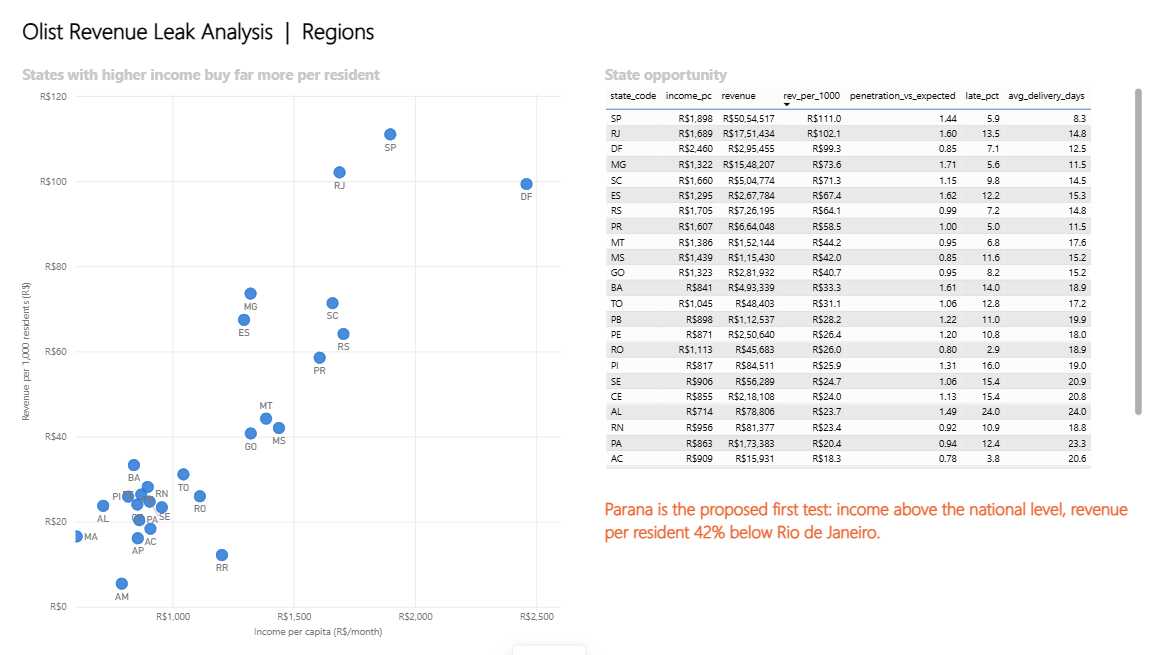

Layout of this report page (visuals, bound fields, positions):
{"tool":"powerbi","page":{"name":"Regions","canvas":[1280,720],"ordinal":3},"visuals":[{"type":"textbox","box":[20,12,900,44],"z":0},{"type":"scatterChart","title":"States with higher income buy far more per resident","fields":{"Category":["states.state_code"],"X":["Sum(states.income_pc)"],"Y":["Sum(states.rev_per_1000)"]},"box":[20,70,620,635],"z":10},{"type":"tableEx","title":"State opportunity","fields":{"Values":["states.state_code","states.income_pc","states.revenue","states.rev_per_1000","states.penetration_vs_expected","states.late_pct","states.avg_delivery_days"]},"box":[660,70,600,450],"z":20},{"type":"textbox","box":[660,540,600,165],"z":30}]}

Visuals, with their boxes in screenshot pixels (x1, y1, x2, y2), scaled from the page's 1280x720 canvas onto the 1164x655 screenshot:
textbox: (18,11,837,51)
"States with higher income buy far more per resident" scatterChart: (18,64,582,641)
"State opportunity" tableEx: (600,64,1146,473)
textbox: (600,491,1146,641)
